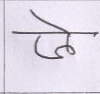e_matra: (30, 9, 74, 38)
